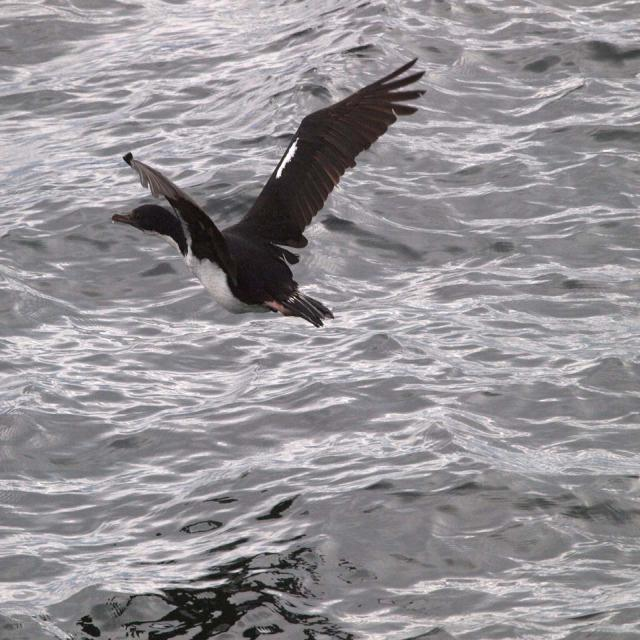bird: (106, 56, 429, 323)
